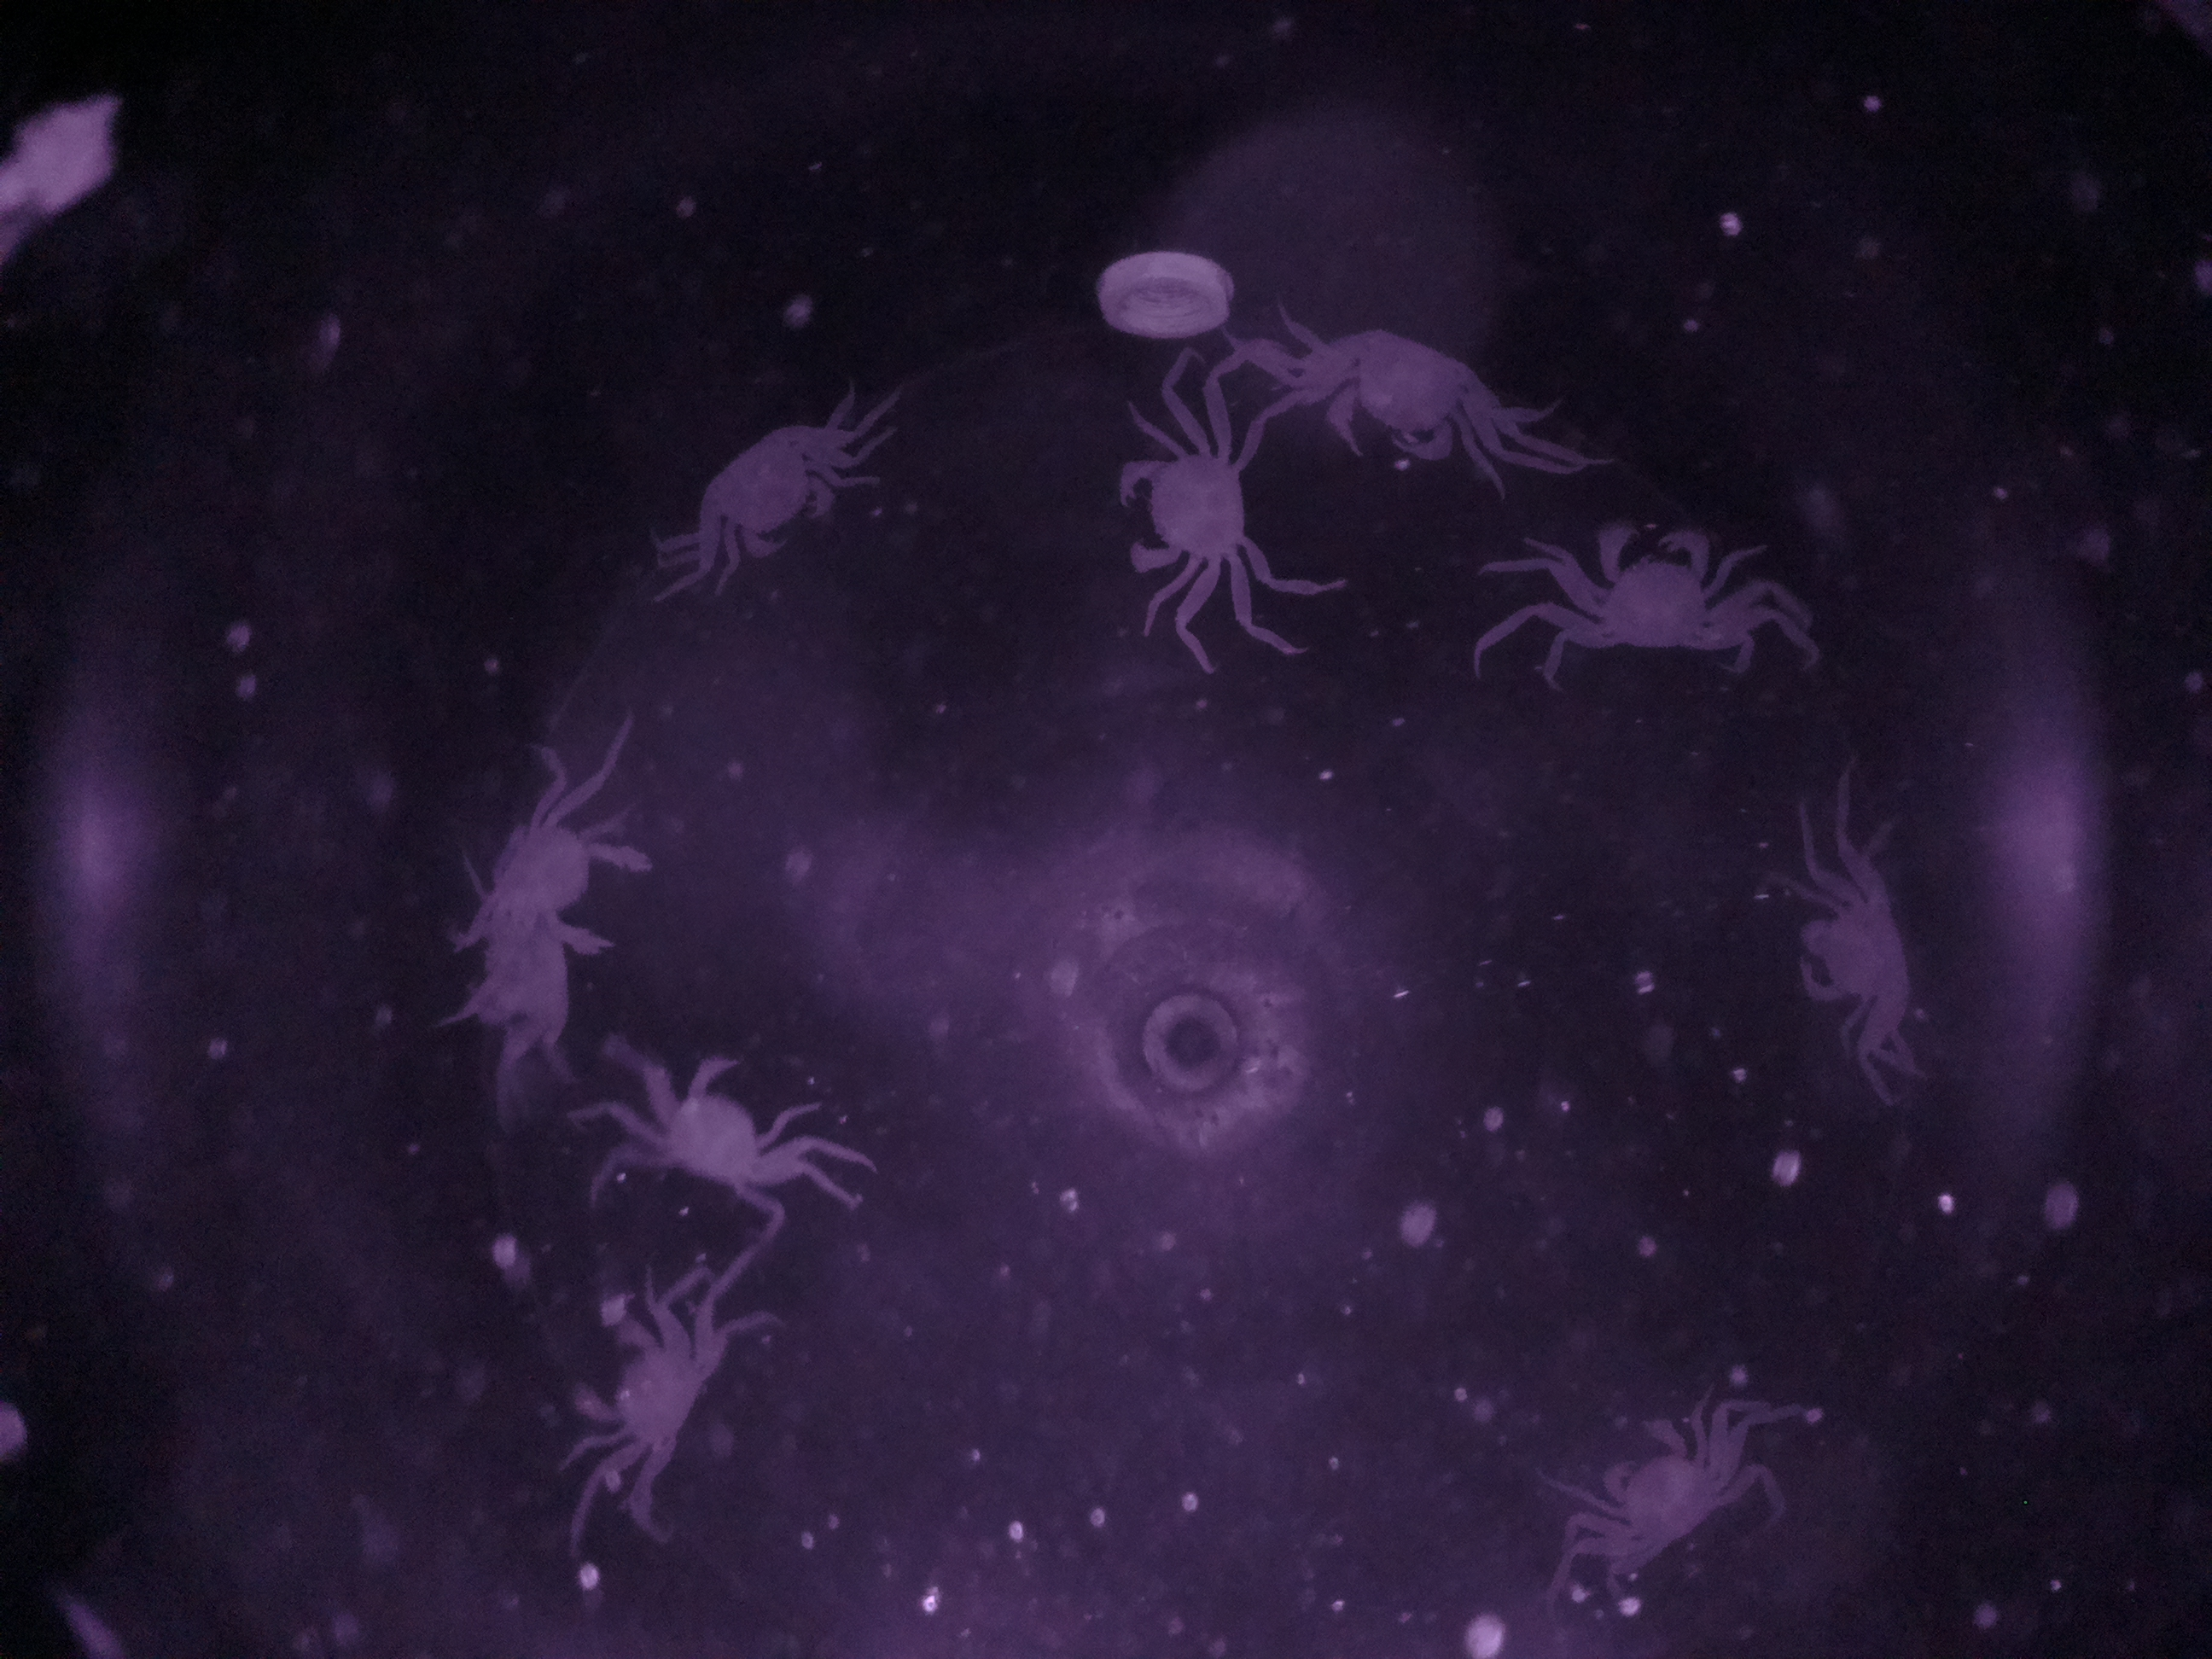Crab: (1282, 298, 1505, 488), (543, 1274, 733, 1490), (1538, 505, 1763, 683), (618, 1032, 834, 1211), (1097, 415, 1287, 605), (1775, 854, 1952, 1053), (1559, 1387, 1740, 1575), (676, 399, 852, 570)
